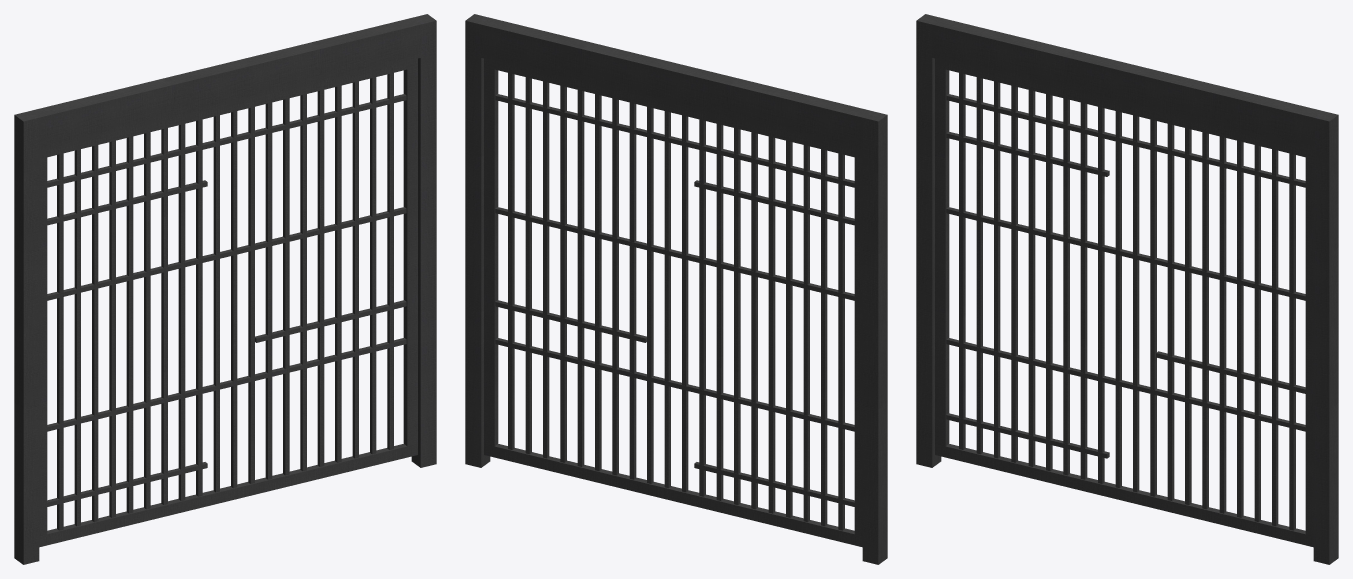
File: es-kyomatiya-oboro_h2000-w1950_kurocha.fbx
3 views of the same model, side by side, from view 1: azimuth 30°, elevation 25°; view 2: azimuth 150°, elevation 25°; view 3: azimuth 330°, elevation 25° (orthographic).
Visible parts, largest first — view 1: es-kyomatiya-oboro_h2000-w1950_kakicha.003; view 2: es-kyomatiya-oboro_h2000-w1950_kakicha.003; view 3: es-kyomatiya-oboro_h2000-w1950_kakicha.003.
Boxes of the visible parts, x1,y1,x2,y2 form: es-kyomatiya-oboro_h2000-w1950_kakicha.003: [14, 14, 436, 564]; es-kyomatiya-oboro_h2000-w1950_kakicha.003: [465, 14, 887, 564]; es-kyomatiya-oboro_h2000-w1950_kakicha.003: [916, 14, 1338, 564].
Bounding box in the file's own units: 195 × 200 × 7.5.
2 materials, 2 textured.
